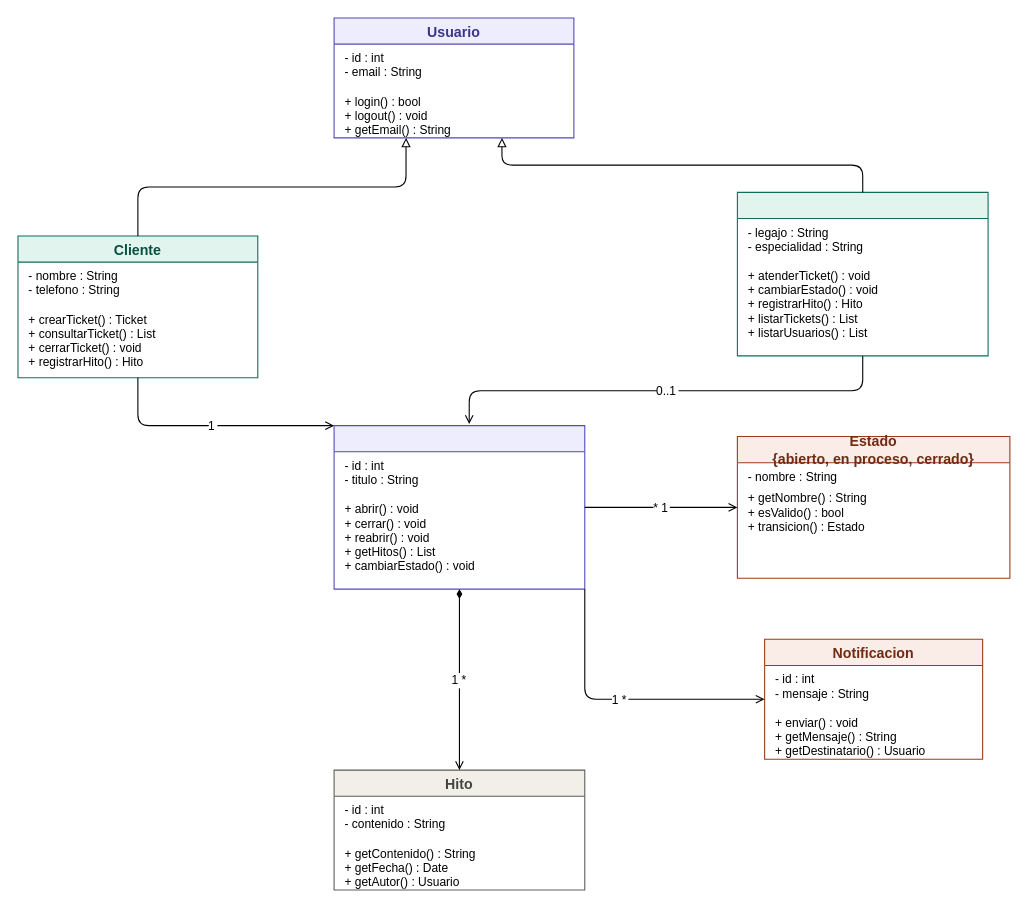
The diagram is 1028 pixels wide and 908 high, and some of its shapes have lost their labels. The shapes that lost their labels are listed below. From the top down, each one's box as (x1, y1, x2, y2) in pixels, then its label:
(736, 191, 988, 356): RepresentanteTelefonico
(333, 425, 585, 589): Ticket
